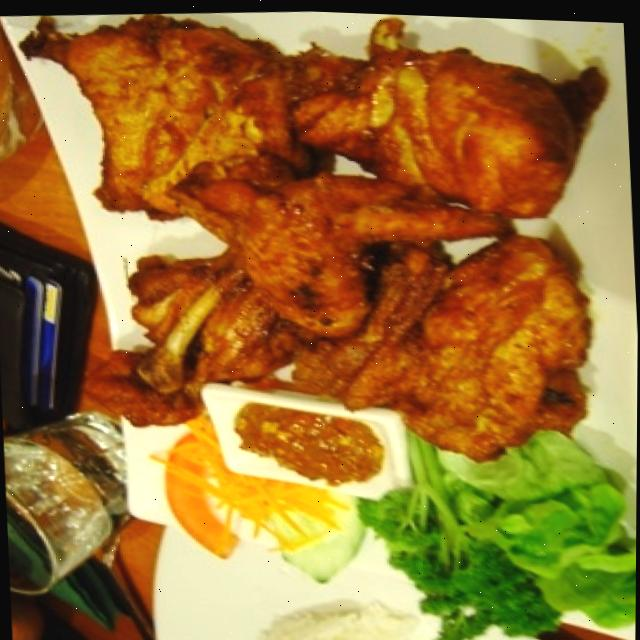鸡肉料理 含炸鸡: (0, 10, 640, 640)
